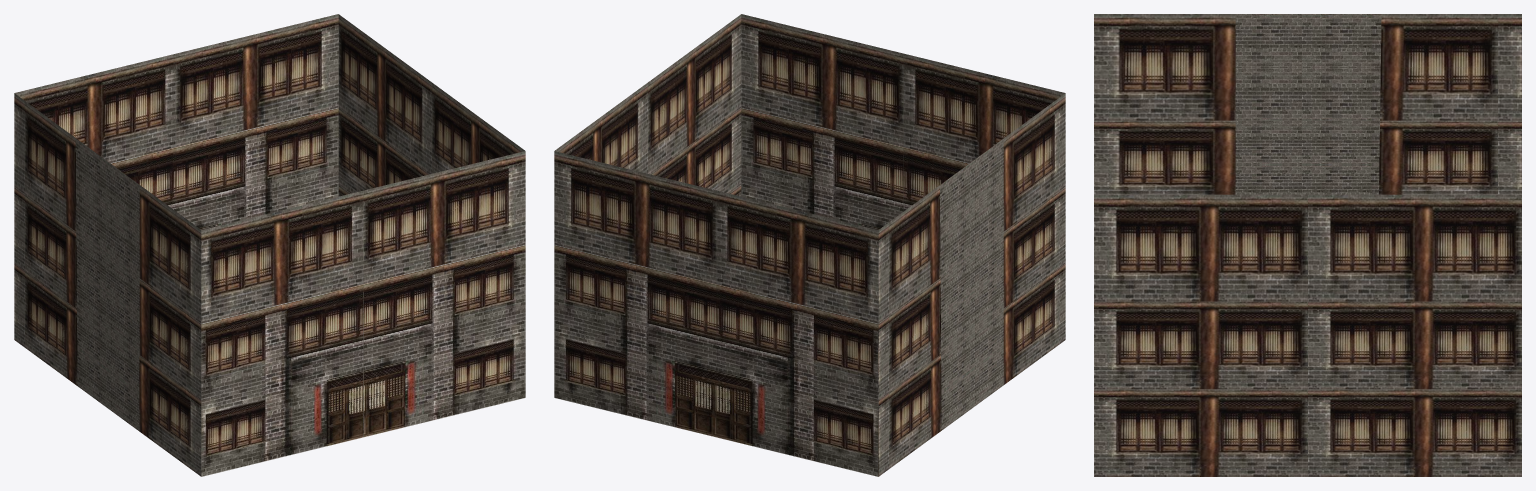
The picture shows the model from 3 angles, left to right: view 1: azimuth 30°, elevation 25°; view 2: azimuth 150°, elevation 25°; view 3: azimuth 270°, elevation 25°; orthographic projection. The views are drawn at different scales.
Parts seen in each view (by area): view 1: Box74; view 2: Box74; view 3: Box74.
Part boxes in pixels (x1,y1,x2,y2): Box74: (14, 14, 525, 476); Box74: (554, 14, 1065, 476); Box74: (1094, 14, 1521, 476).
Bounding box in the file's own units: 300 × 218 × 300.
